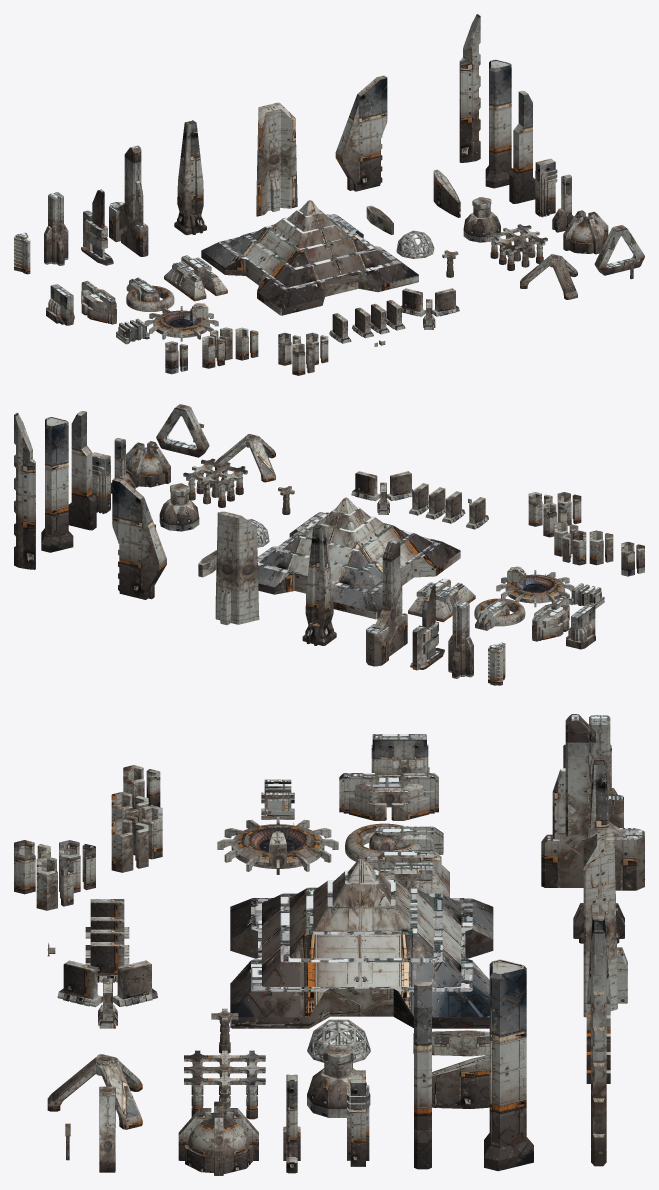
Rendered from future_brutalism.glb.
3 views of the same model, one above another, from view 1: azimuth 30°, elevation 25°; view 2: azimuth 150°, elevation 25°; view 3: azimuth 270°, elevation 25° (orthographic). The views are drawn at different scales.
Parts seen in each view (by area): view 1: Pyramid_5, Skyscraper 6_3, Skyscraper 7_1, Skyscraper 9_6, Skyscraper 8_0, Skyscraper 4_22, Skyscraper 5_4, Skyscraper 10_11, Stadium_33, Platform support group_35, Social housing 1.003_31, Facility 4_15 (+19 smaller); view 2: Pyramid_5, Skyscraper 7_1, Skyscraper 6_3, Skyscraper 9_6, Skyscraper 4_22, Skyscraper 8_0, Skyscraper 5_4, Skyscraper 10_11, Stadium_33, Social housing 1.003_31, Platform support group_35, Social housing 1.002_30 (+18 smaller); view 3: Pyramid_5, Skyscraper 9_6, Skyscraper 4_22, Skyscraper 6_3, Dome 3_24, Stadium_33, Facility 2_20, Social housing 1.002_30, Social housing 2.002_36, Skyscraper 8_0, Social housing 1.003_31, Skyscraper 10_11 (+19 smaller).
Boxes of the visible parts, x1,y1,x2,y2 form: Pyramid_5: [201, 200, 418, 315]; Skyscraper 6_3: [256, 102, 297, 216]; Skyscraper 7_1: [335, 75, 387, 191]; Skyscraper 9_6: [485, 59, 512, 188]; Skyscraper 8_0: [459, 14, 480, 162]; Skyscraper 4_22: [109, 145, 148, 256]; Skyscraper 5_4: [174, 120, 206, 235]; Skyscraper 10_11: [509, 90, 535, 203]; Stadium_33: [144, 303, 218, 341]; Platform support group_35: [486, 224, 547, 270]; Social housing 1.003_31: [202, 327, 258, 368]; Facility 4_15: [164, 255, 227, 301]; Pyramid_5: [257, 497, 460, 619]; Skyscraper 7_1: [112, 477, 166, 599]; Skyscraper 6_3: [215, 511, 259, 625]; Skyscraper 9_6: [41, 417, 73, 552]; Skyscraper 4_22: [366, 540, 407, 666]; Skyscraper 8_0: [14, 413, 35, 569]; Skyscraper 5_4: [302, 525, 336, 645]; Skyscraper 10_11: [68, 411, 96, 530]; Stadium_33: [496, 566, 574, 607]; Social housing 1.003_31: [554, 522, 613, 565]; Platform support group_35: [183, 458, 247, 507]; Social housing 1.002_30: [528, 492, 581, 537]; Pyramid_5: [230, 859, 493, 1028]; Skyscraper 9_6: [484, 959, 533, 1171]; Skyscraper 4_22: [541, 714, 644, 890]; Skyscraper 6_3: [583, 828, 627, 1017]; Dome 3_24: [178, 1101, 258, 1175]; Stadium_33: [217, 817, 338, 874]; Facility 2_20: [339, 773, 438, 820]; Social housing 1.002_30: [14, 840, 95, 910]; Social housing 2.002_36: [57, 960, 157, 1028]; Skyscraper 8_0: [591, 930, 606, 1166]; Social housing 1.003_31: [111, 791, 162, 872]; Skyscraper 10_11: [414, 982, 431, 1169].
Bounding box in the file's own units: 29.9 × 8.2 × 19.88.
Materials: 5 (5 with a texture image).
